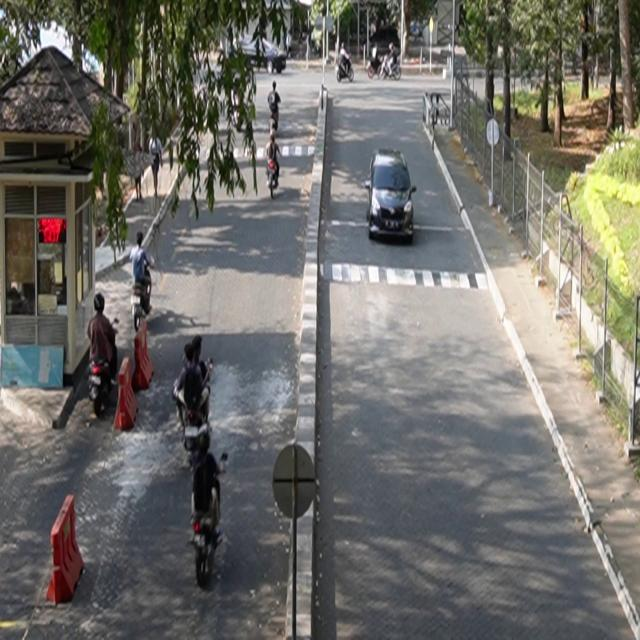car: (366, 148, 418, 244)
